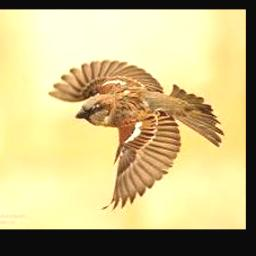Sparrow: (47, 59, 224, 210)
